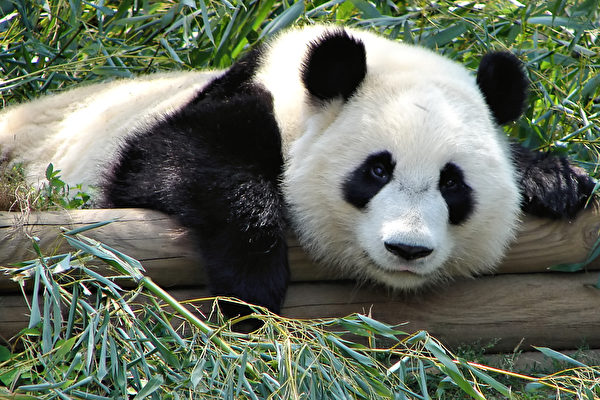panda: (4, 9, 537, 320)
